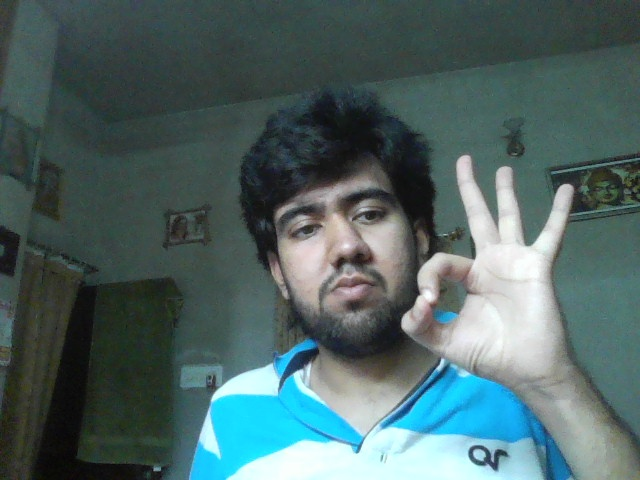Nice: (400, 154, 576, 378)
